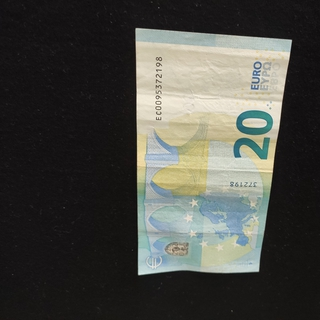20EUROBack: (135, 27, 292, 275)
